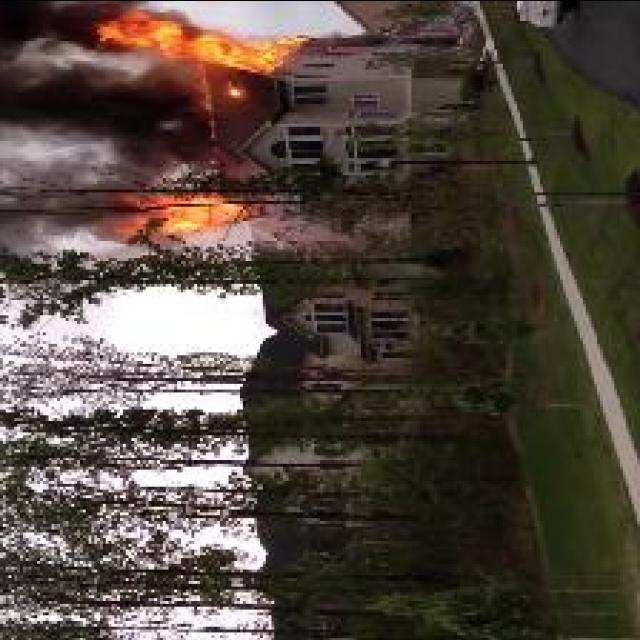Fire: (98, 8, 310, 76), (110, 187, 256, 239)
